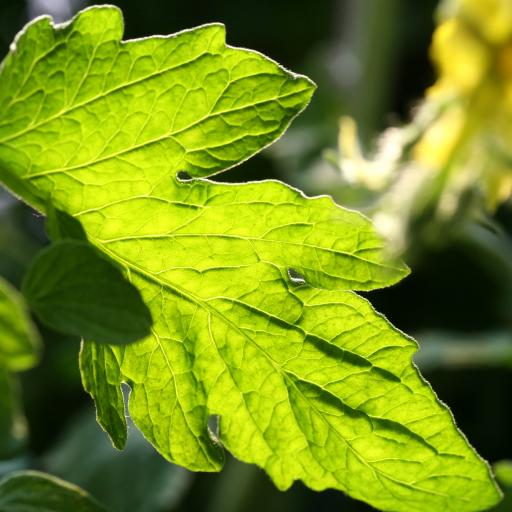Healthy: (8, 8, 506, 508)
